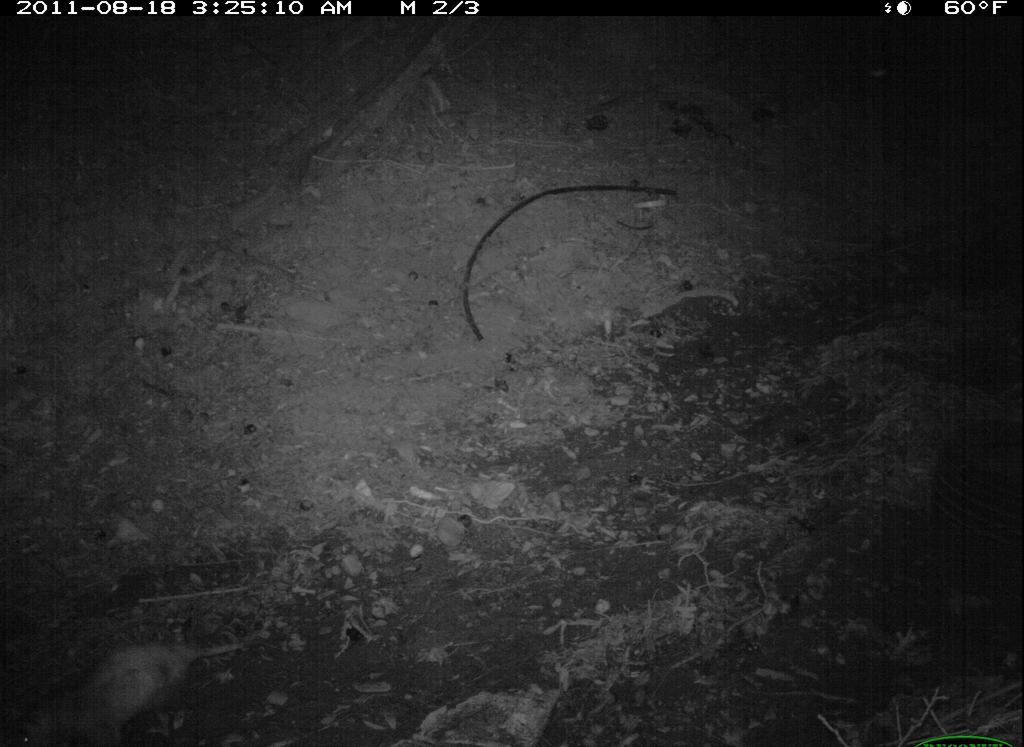opossum: (7, 628, 240, 745)
